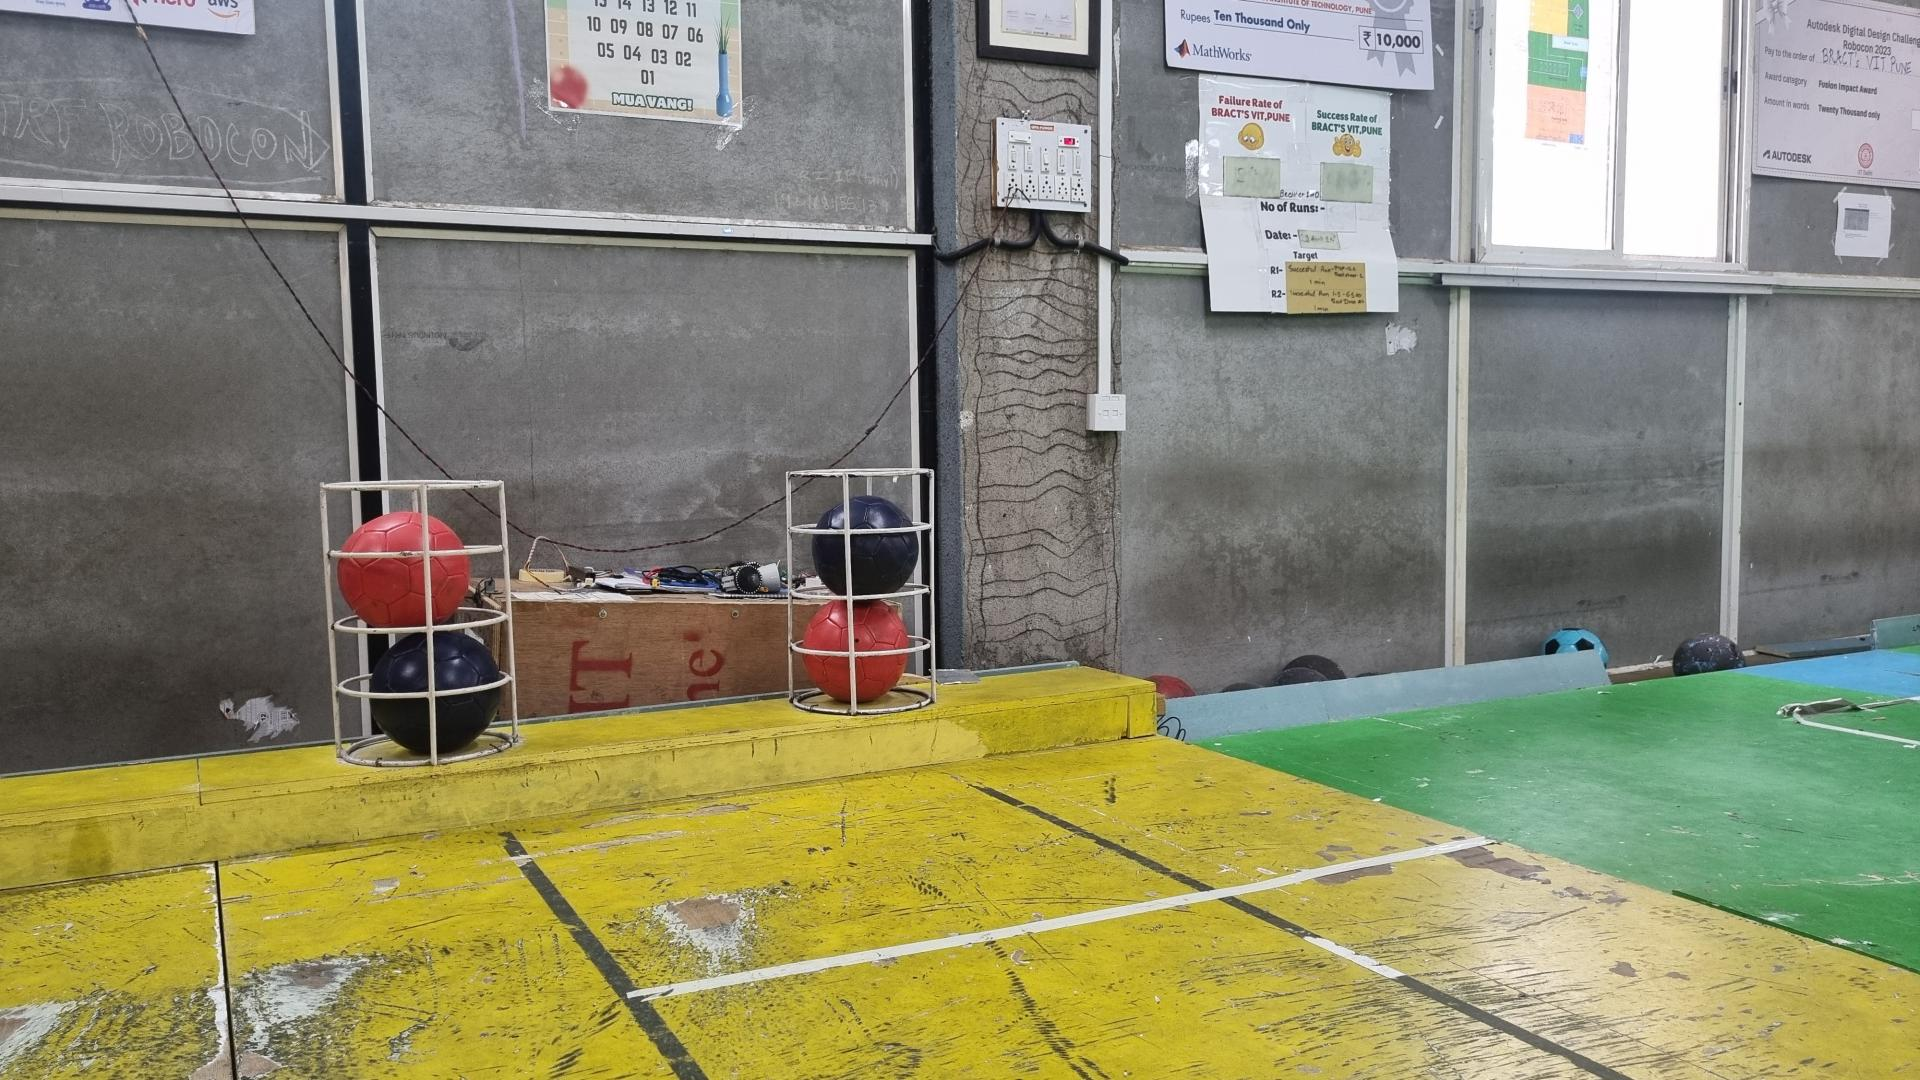dhoka: (369, 628, 505, 756), (812, 496, 920, 596)
laale: (335, 510, 471, 630), (799, 600, 909, 705)
